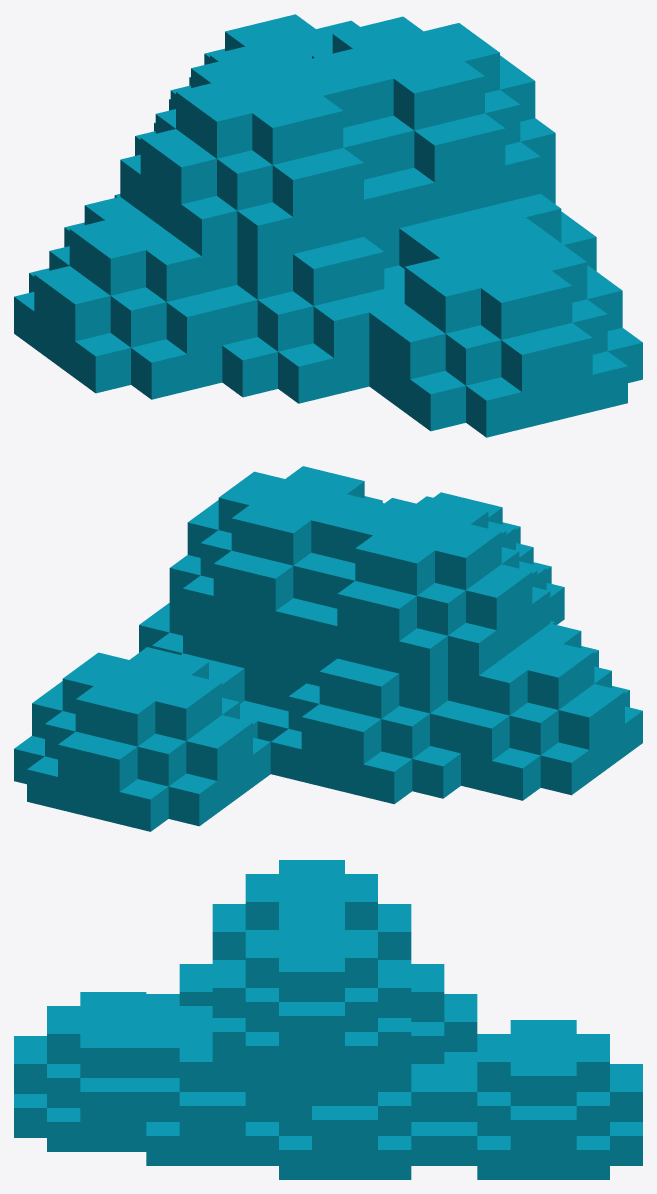
The model's file is IceBerries-5.obj.
The picture shows the model from 3 angles, top to bottom: view 1: azimuth 30°, elevation 25°; view 2: azimuth 150°, elevation 25°; view 3: azimuth 270°, elevation 25°; orthographic projection. The views are drawn at different scales.
Bounding box in the file's own units: 1.4 × 0.6 × 1.9.
1 material, 1 textured.
